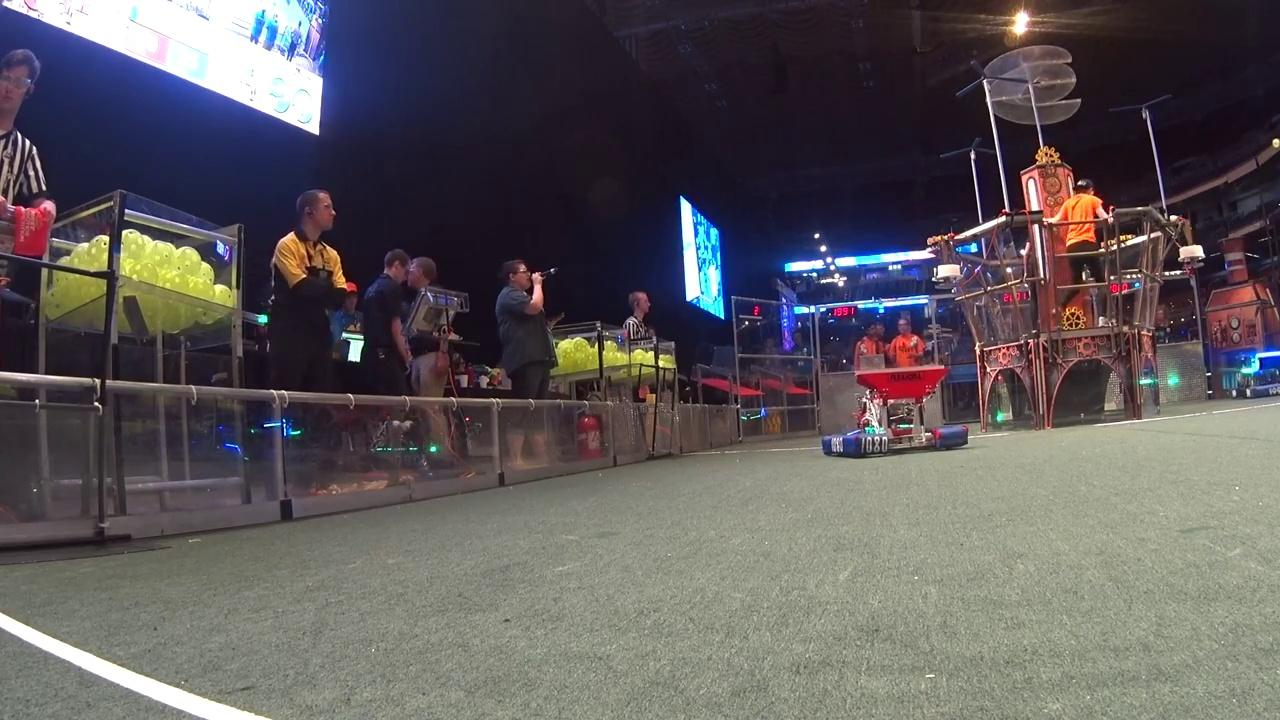robot: (820, 362, 969, 460)
